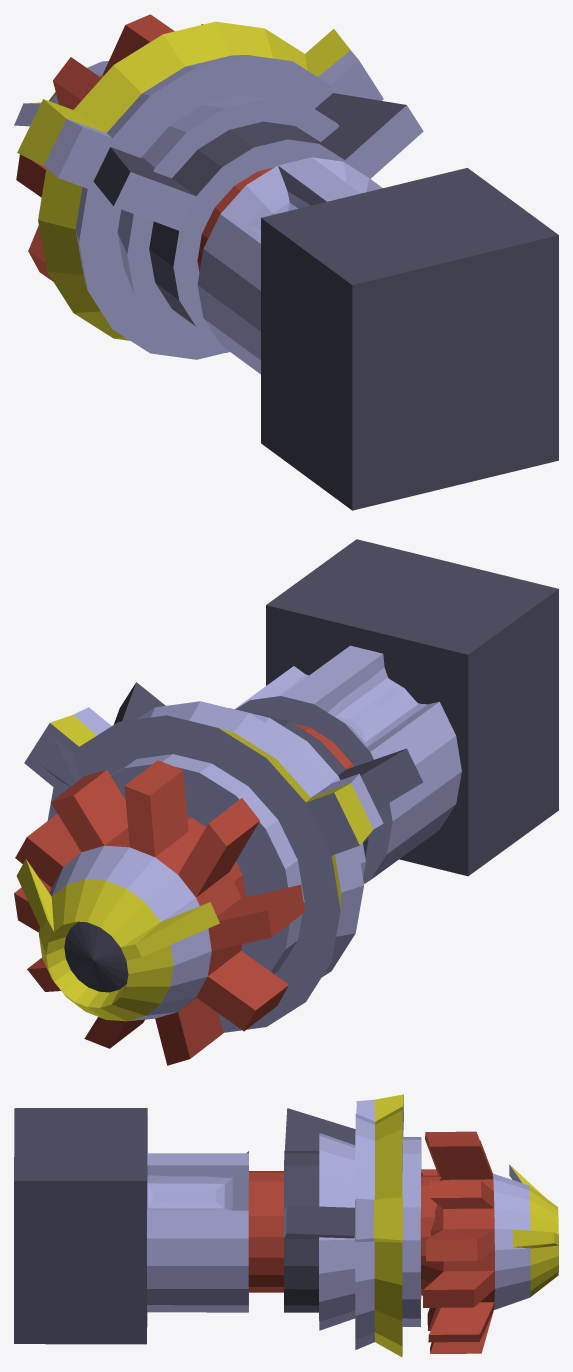
The model's file is Weapon_Gun.FBX.
The picture shows the model from 3 angles, top to bottom: view 1: azimuth 30°, elevation 25°; view 2: azimuth 150°, elevation 25°; view 3: azimuth 270°, elevation 25°; orthographic projection. The views are drawn at different scales.
Visible parts, largest first — view 1: pCylinder3; view 2: pCylinder3; view 3: pCylinder3.
Boxes of the visible parts, x1,y1,x2,y2 form: pCylinder3: [14, 14, 558, 510]; pCylinder3: [14, 539, 558, 1065]; pCylinder3: [14, 1094, 558, 1357].
Size of the model in its own units: 23.86 by 20.71 by 45.41.
